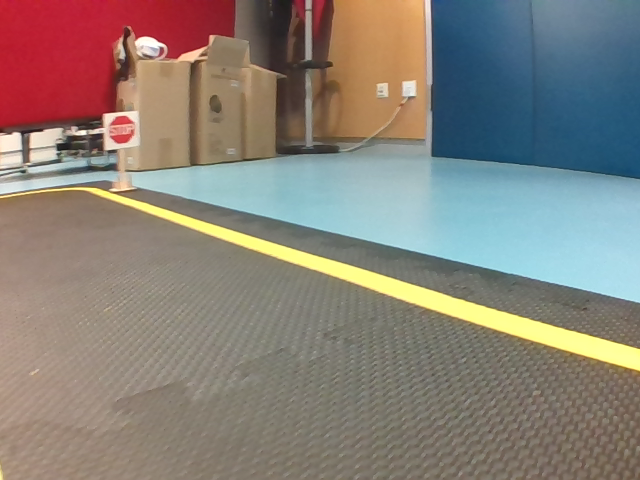stop: (105, 114, 140, 148)
